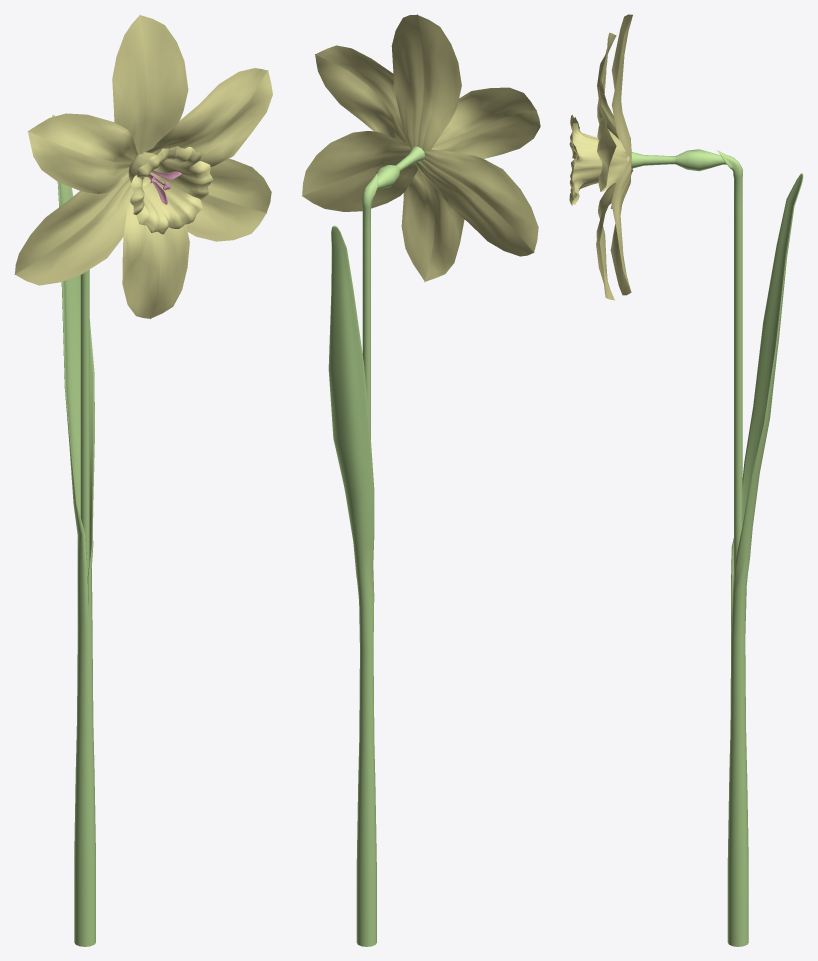
The model's file is daffodil 1.fbx.
The picture shows the model from 3 angles, left to right: view 1: azimuth 30°, elevation 25°; view 2: azimuth 150°, elevation 25°; view 3: azimuth 270°, elevation 25°; orthographic projection. The views are drawn at different scales.
Visible parts, largest first — view 1: stalk.001; view 2: stalk.001; view 3: stalk.001.
Boxes of the visible parts, x1,y1,x2,y2 form: stalk.001: [14, 14, 272, 946]; stalk.001: [302, 14, 540, 946]; stalk.001: [569, 14, 803, 946].
Bounding box in the file's own units: 22.79 × 82.85 × 18.93.
